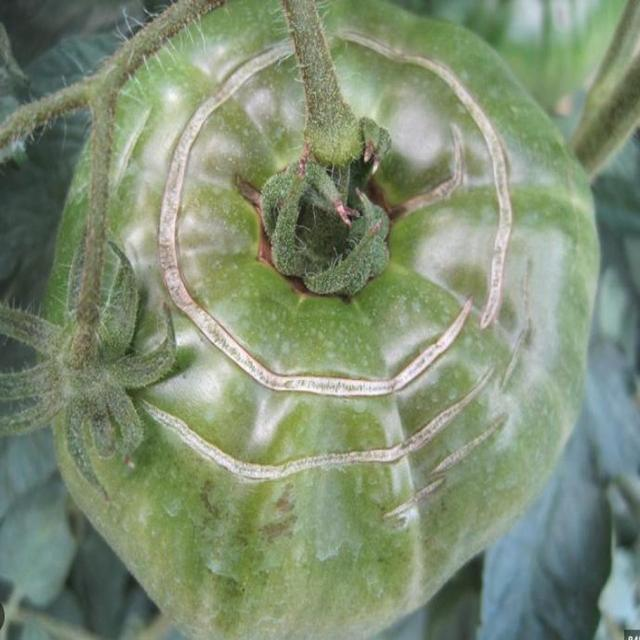Cracking Fruit: (205, 116, 273, 285)
